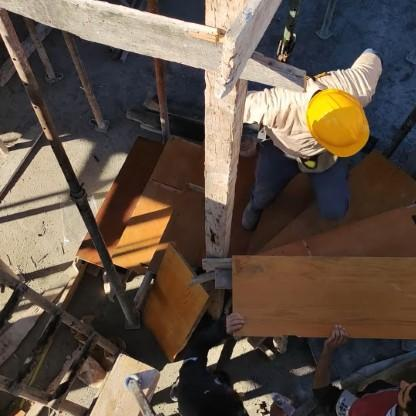helmet: (302, 83, 378, 162)
